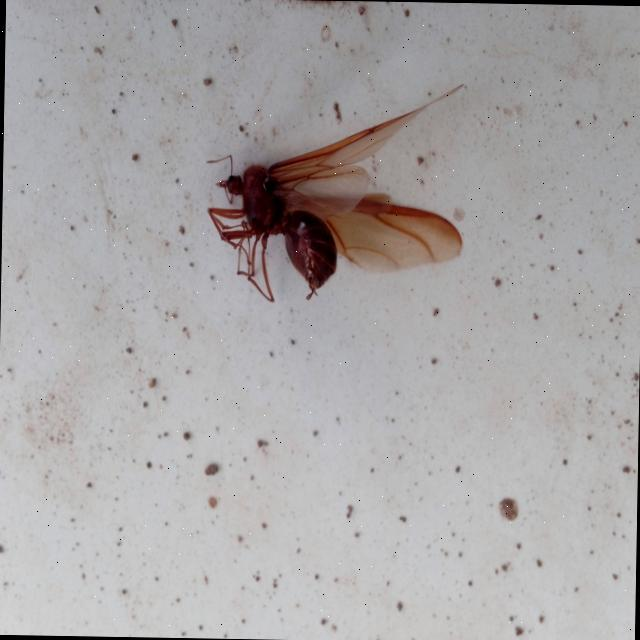Dead-Male-Alate: (203, 79, 464, 306)
